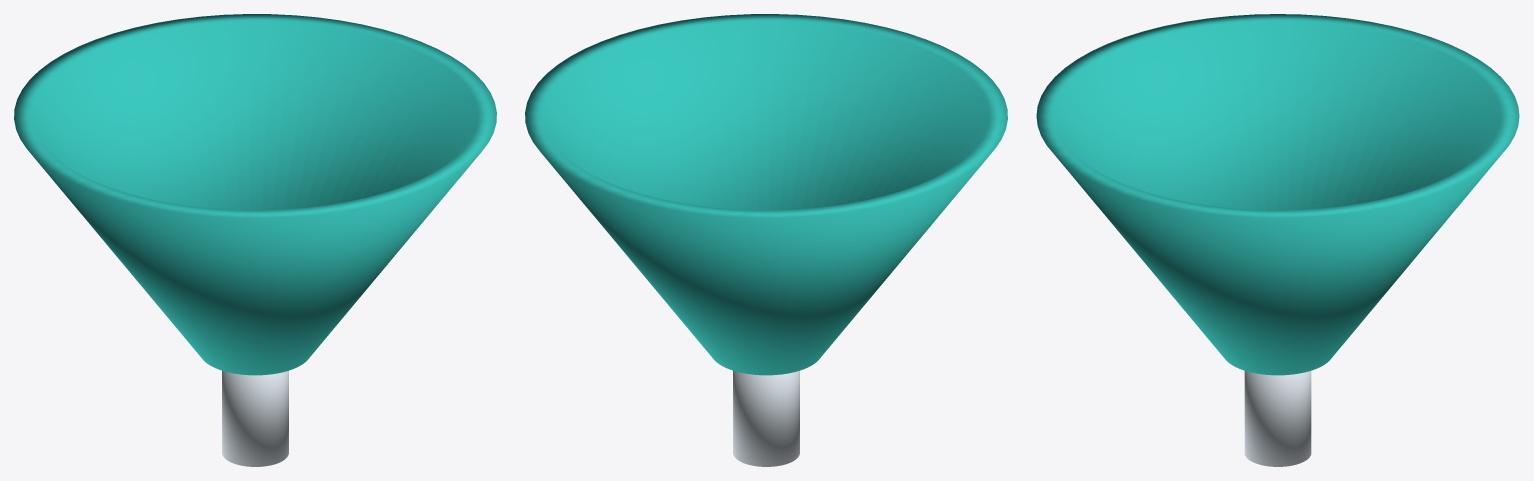
File: laboratory-funnel-quality.glb
The picture shows the model from 3 angles, left to right: view 1: azimuth 30°, elevation 25°; view 2: azimuth 150°, elevation 25°; view 3: azimuth 270°, elevation 25°; orthographic projection.
Parts seen in each view (by area): view 1: Open funnel; view 2: Open funnel; view 3: Open funnel.
Part boxes in pixels (x1=…): Open funnel: x1=14, y1=14, x2=496, y2=466; Open funnel: x1=525, y1=14, x2=1007, y2=466; Open funnel: x1=1036, y1=14, x2=1519, y2=466.
Bounding box in the file's own units: 1.3 × 1 × 1.3.
